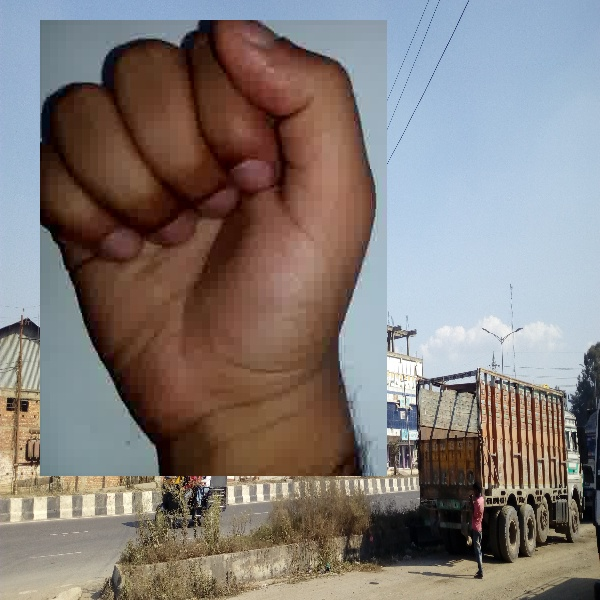A: (40, 20, 387, 476)
